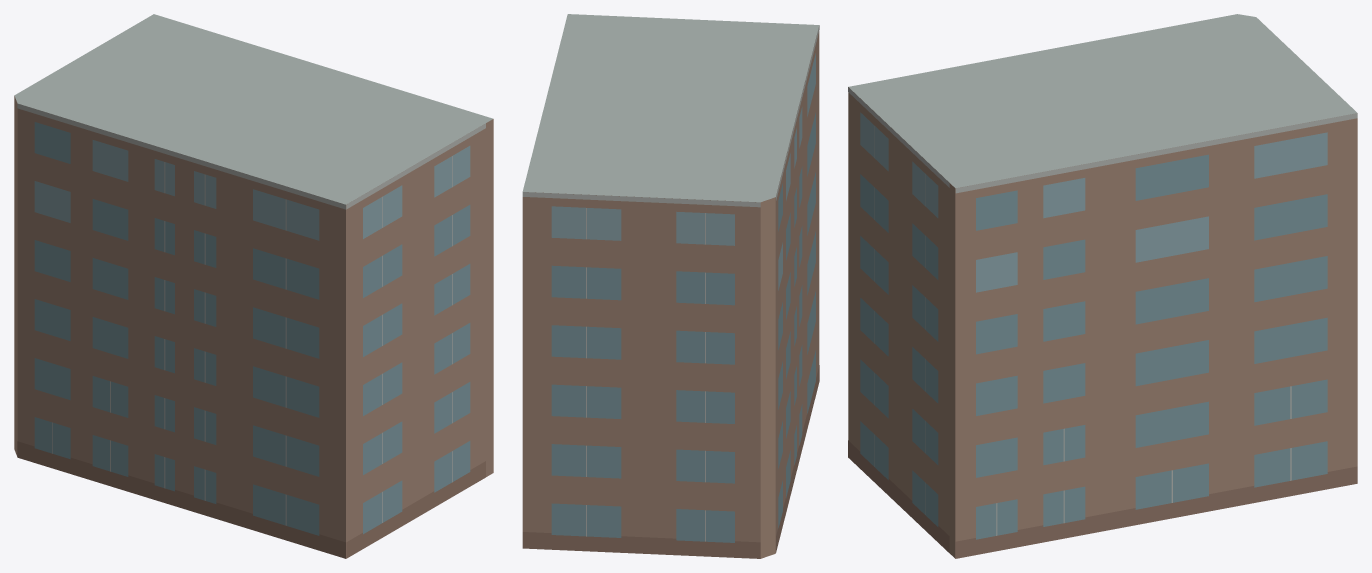
File: survey-upis-32736629.glb
The picture shows the model from 3 angles, left to right: view 1: azimuth 30°, elevation 25°; view 2: azimuth 150°, elevation 25°; view 3: azimuth 270°, elevation 25°; orthographic projection. The views are drawn at different scales.
Visible parts, largest first — view 1: survey-upis-32736629.tmp; view 2: survey-upis-32736629.tmp; view 3: survey-upis-32736629.tmp.
Part boxes in pixels (x1=…): survey-upis-32736629.tmp: x1=14, y1=14, x2=493, y2=558; survey-upis-32736629.tmp: x1=522, y1=14, x2=819, y2=558; survey-upis-32736629.tmp: x1=848, y1=14, x2=1357, y2=558.
Size of the model in its own units: 17.66 by 17.5 by 21.82.
